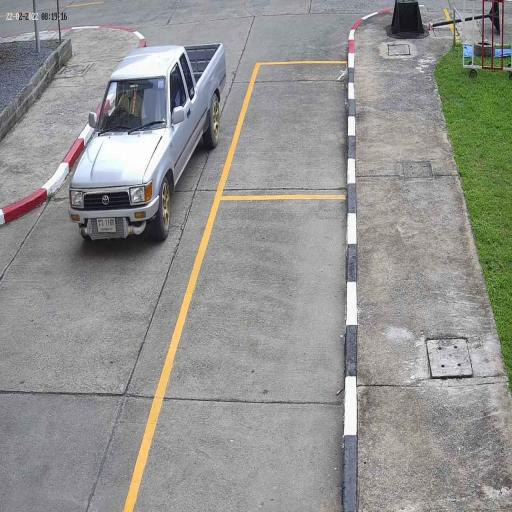car: (68, 44, 228, 246)
